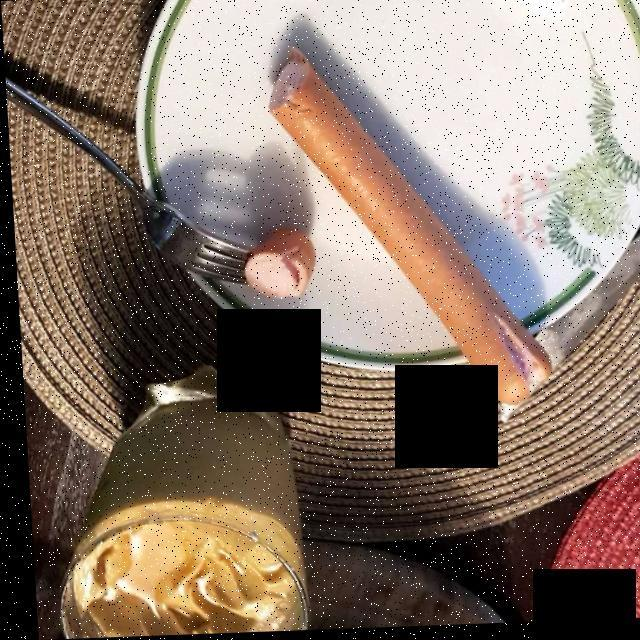mustard: (106, 405, 279, 607)
sausage: (271, 63, 538, 405)
